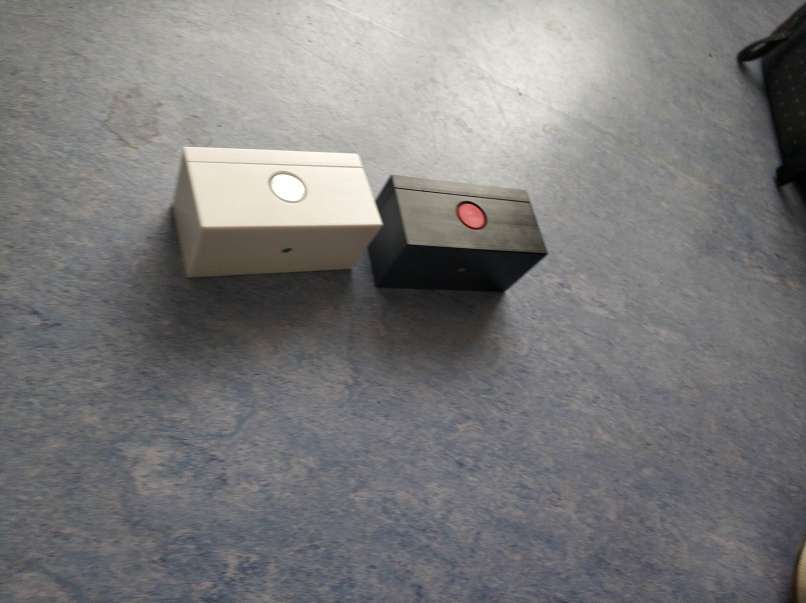black+black+red: (373, 171, 551, 294)
white+white+silver: (167, 143, 379, 279)
